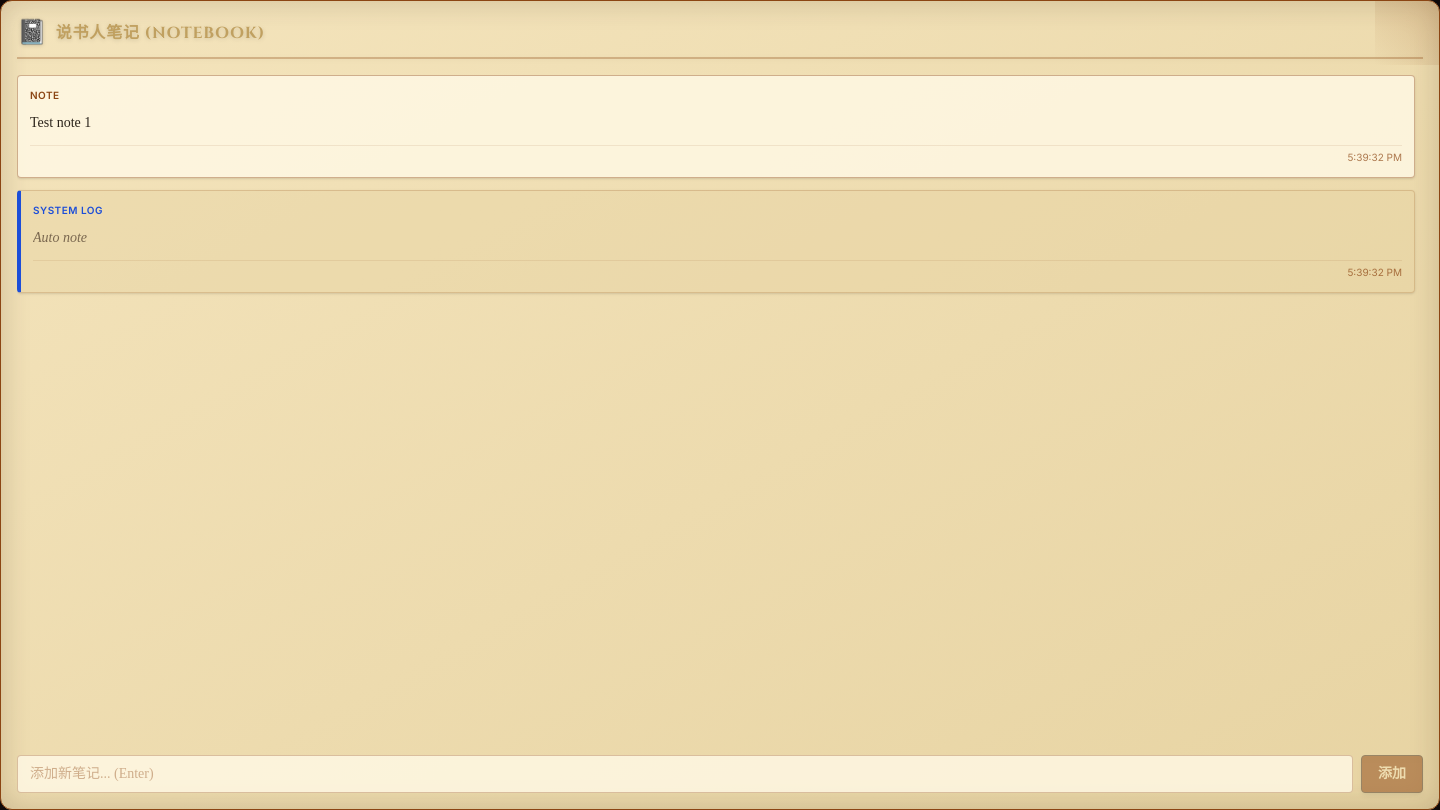
Test case: StorytellerNotebook › should enable add button when input has content
In the field with placeholder "添加新笔记... (Enter)": (685, 774) top-left (17, 755), bottom-right (1353, 793), type "Test"
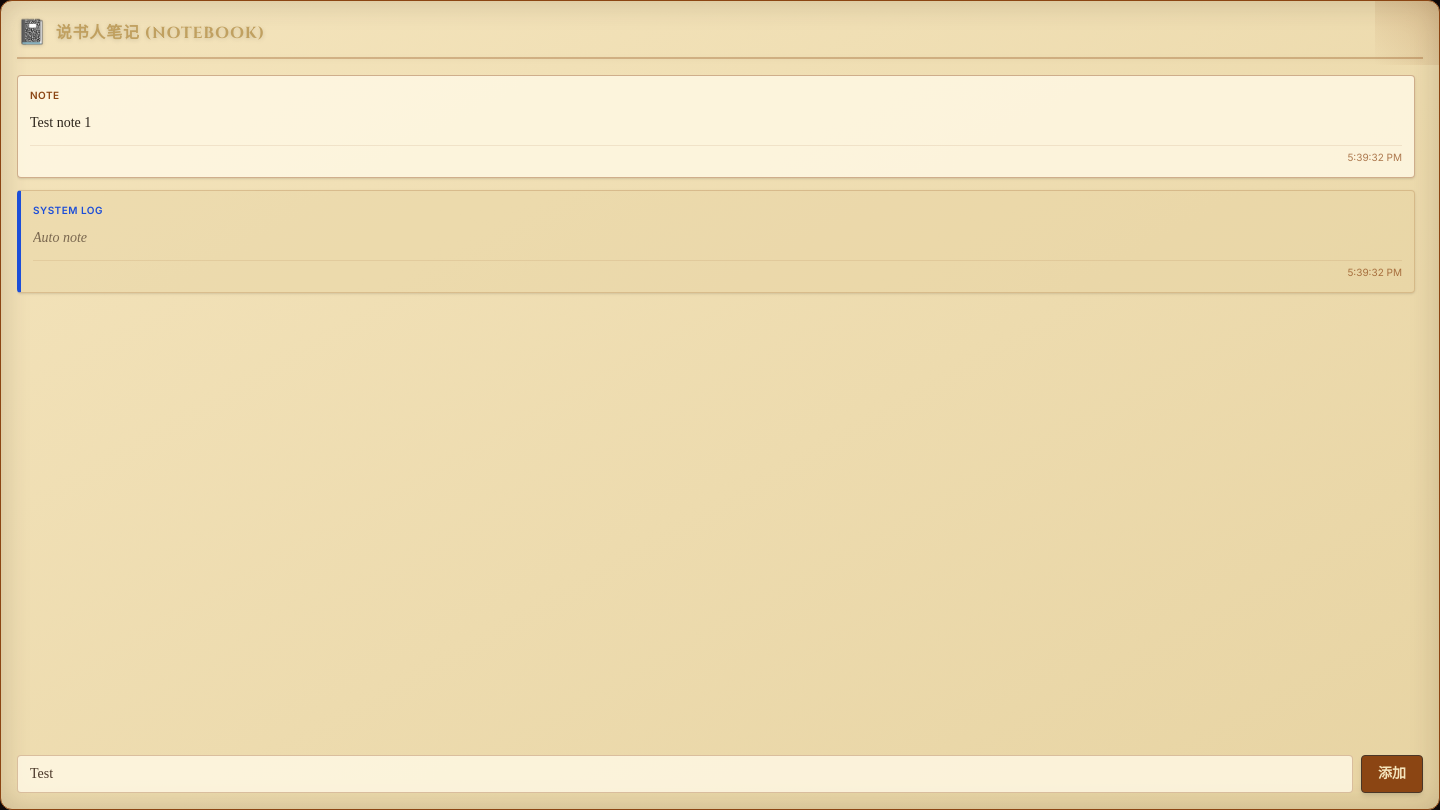
Now the button "添加" is enabled, box top-left (1361, 755), bottom-right (1423, 793)
